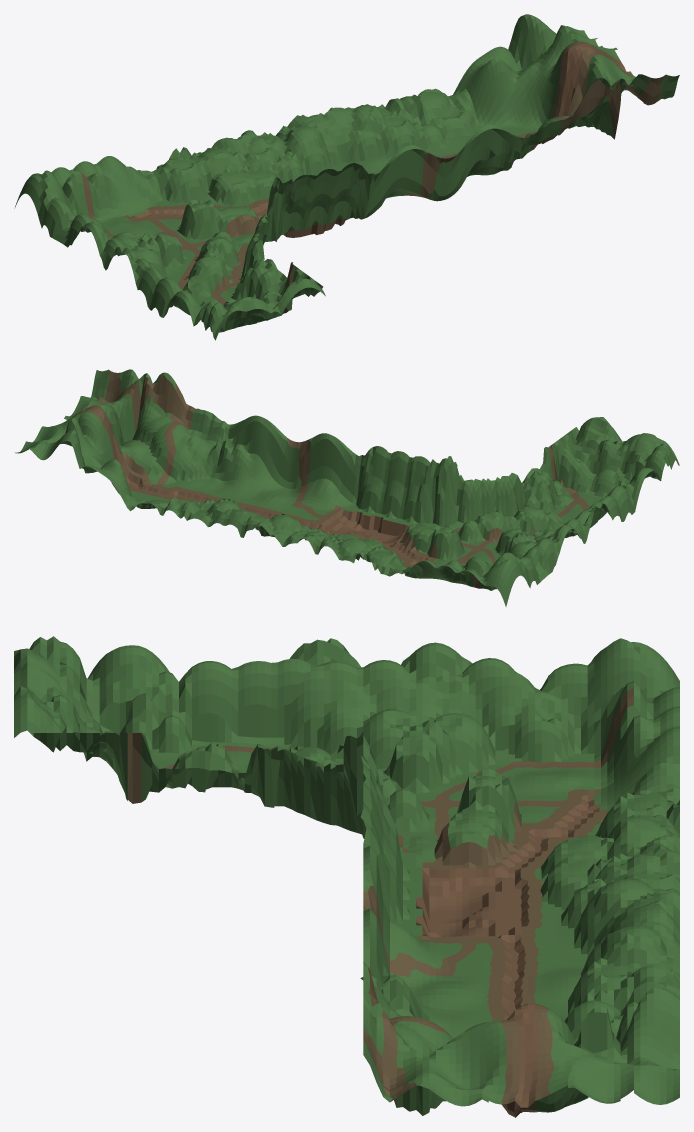
File: LVL2_Vert.fbx
The picture shows the model from 3 angles, top to bottom: view 1: azimuth 30°, elevation 25°; view 2: azimuth 150°, elevation 25°; view 3: azimuth 270°, elevation 25°; orthographic projection. The views are drawn at different scales.
Parts seen in each view (by area): view 1: level_4.01; view 2: level_4.01; view 3: level_4.01.
Boxes of the visible parts, x1=… form: level_4.01: x1=14, y1=14, x2=679, y2=340; level_4.01: x1=15, y1=369, x2=679, y2=606; level_4.01: x1=14, y1=636, x2=679, y2=1117.
Size of the model in its own units: 57299 by 10118 by 35000.
